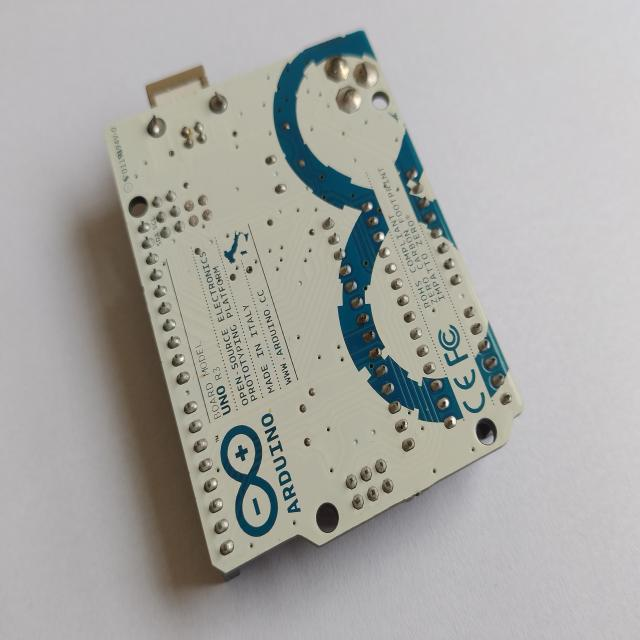arduino: (98, 12, 530, 591)
